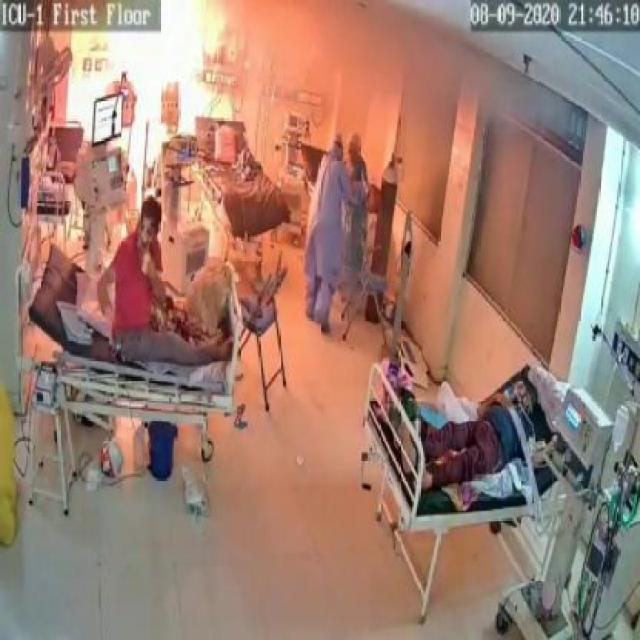fire: (107, 2, 230, 162)
smoke: (306, 0, 571, 148)
